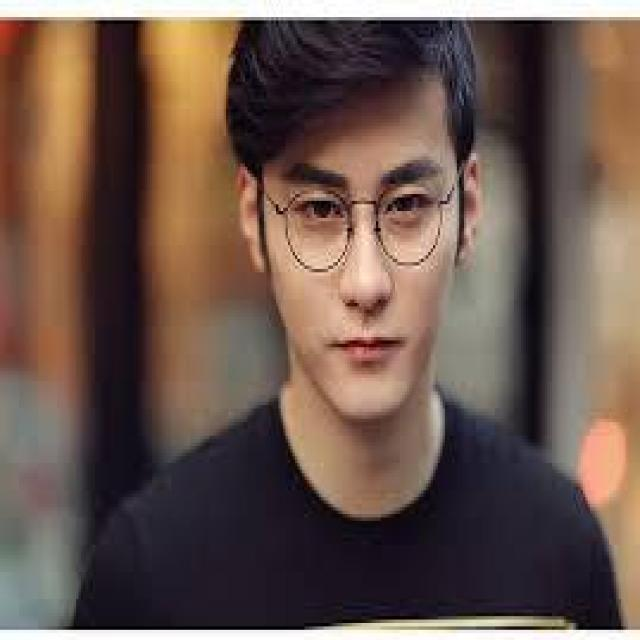Glasses: (266, 160, 464, 276)
